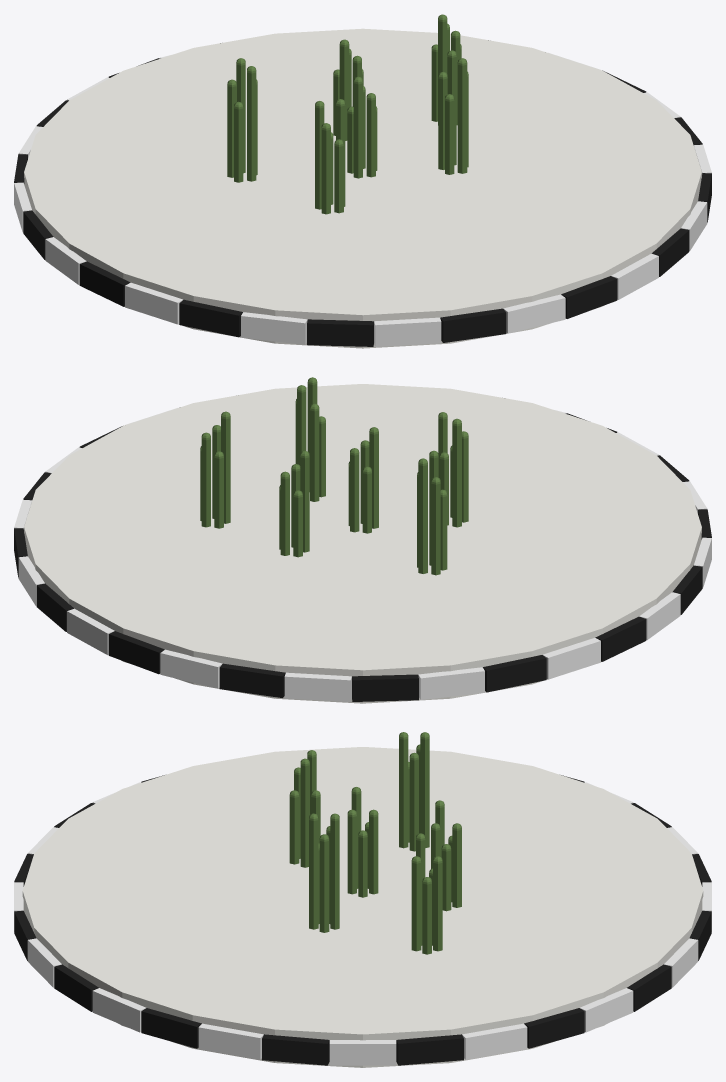
The model's file is rb_kayla.glb.
The picture shows the model from 3 angles, top to bottom: view 1: azimuth 30°, elevation 25°; view 2: azimuth 150°, elevation 25°; view 3: azimuth 270°, elevation 25°; orthographic projection.
Parts seen in each view (by area): view 1: rb_kayla_lod0; view 2: rb_kayla_lod0; view 3: rb_kayla_lod0.
Boxes of the visible parts, box(x1,y1,x2,y2) form: rb_kayla_lod0: box(14, 14, 711, 348); rb_kayla_lod0: box(14, 377, 711, 703); rb_kayla_lod0: box(14, 732, 711, 1067).
Size of what is drawn, in the model's own units: 21.74 by 5.05 by 21.74.
